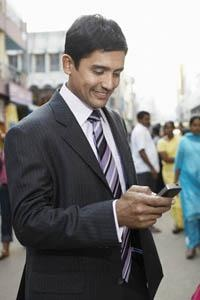person without safety: (27, 7, 169, 300)
